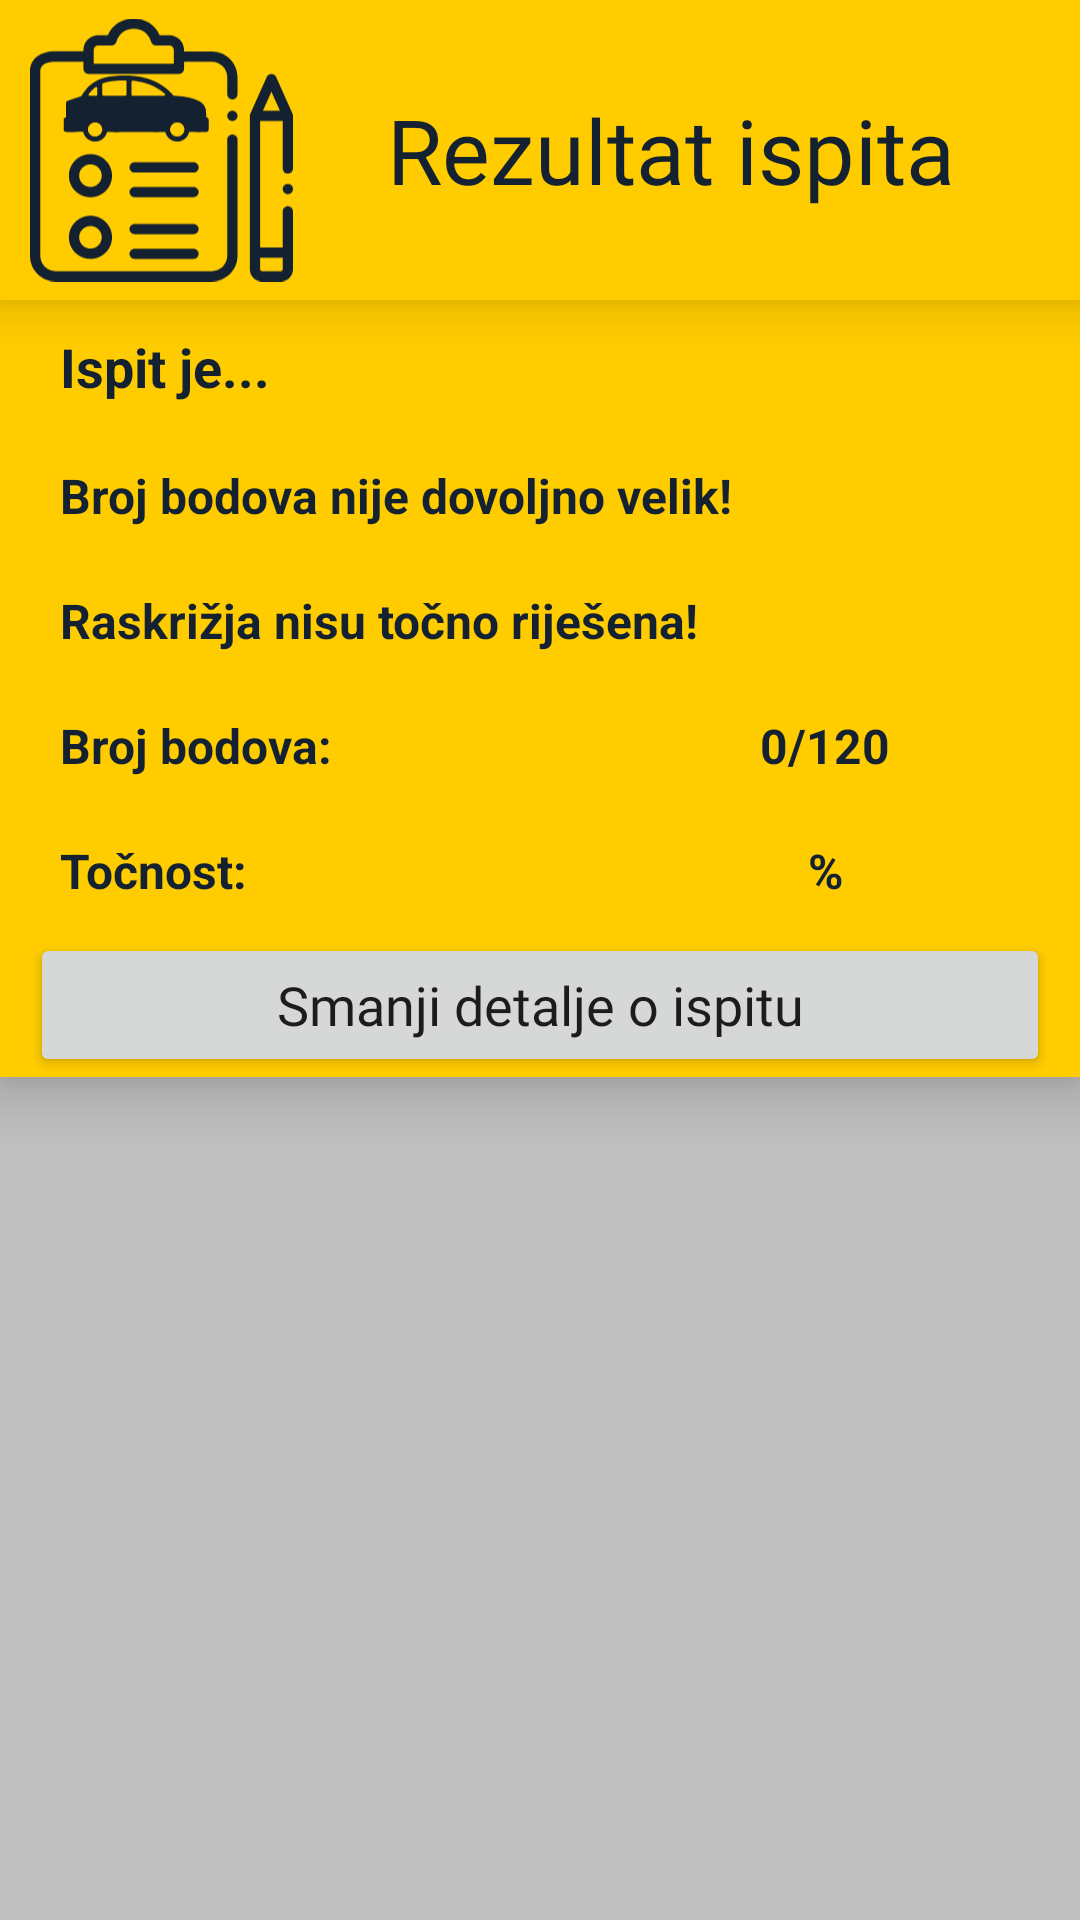

Point at icon controls on the screen. Image size 1080px×1920px, points as (x,y).
ispit propisi: (161,150)
